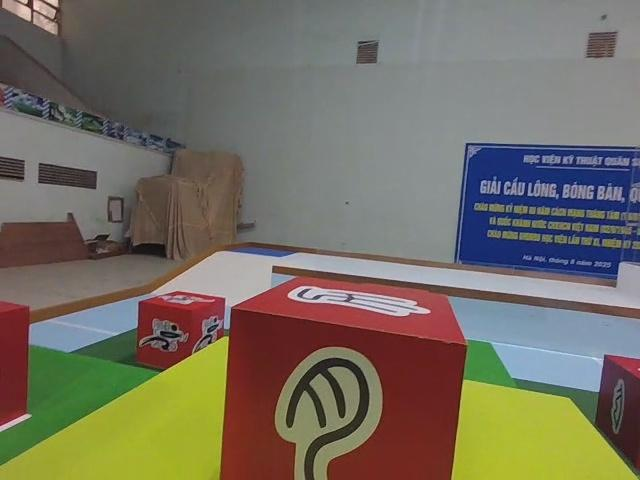R1: (133, 288, 227, 371)
R2 Fake: (219, 274, 470, 480)
R2 Real: (593, 352, 640, 477)
